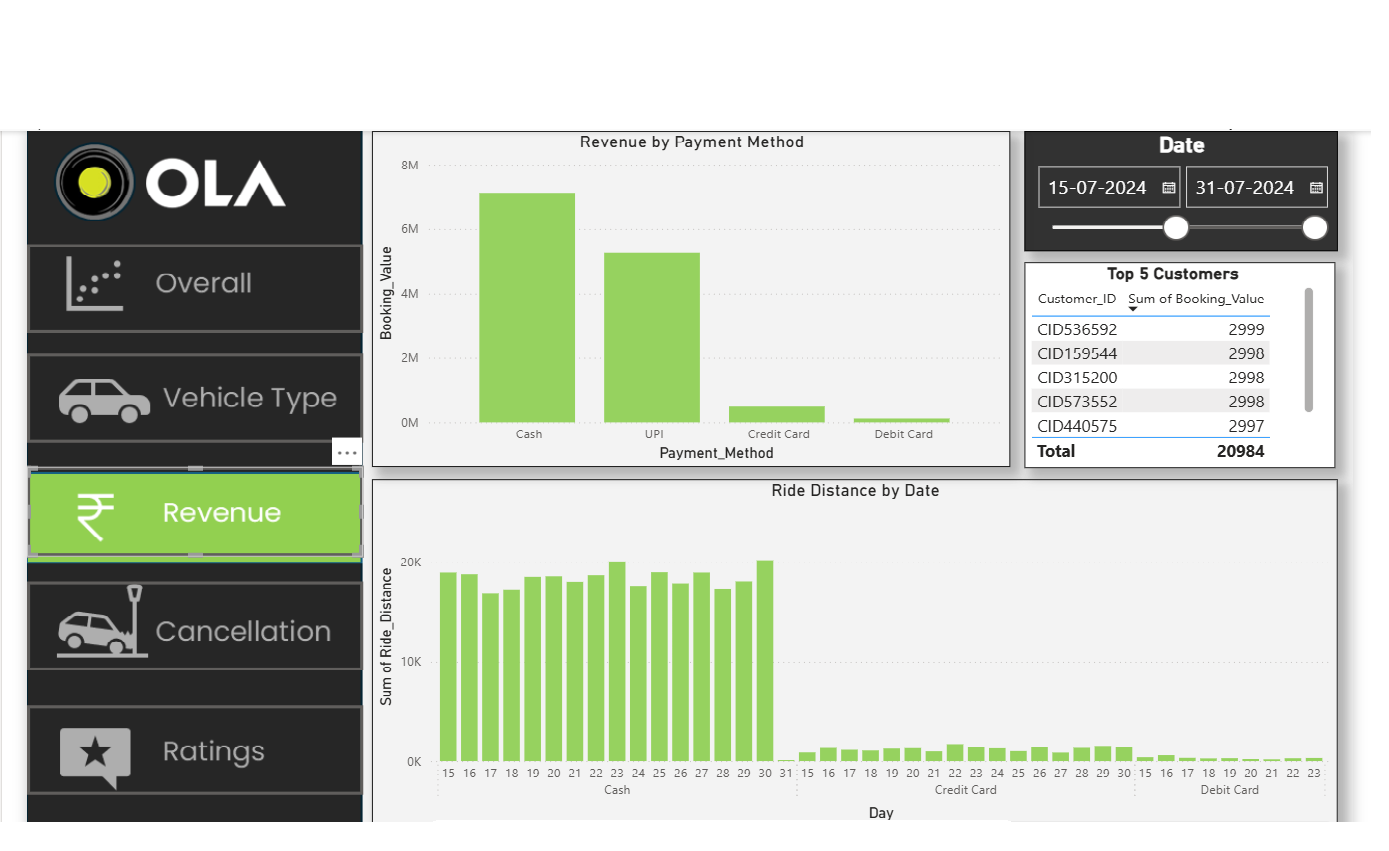

The dashboard page shown, as its layout file describes it:
{"tool":"powerbi","page":{"name":"Revenue","canvas":[1280,720],"ordinal":2},"visuals":[{"type":"actionButton","box":[0,223.2,324.5,89.3],"z":0},{"type":"actionButton","box":[0,336.6,324.5,89.3],"z":1000},{"type":"actionButton","box":[0,451.2,324.5,89.3],"z":2000},{"type":"actionButton","box":[0,575.5,324.5,89.3],"z":3000},{"type":"actionButton","box":[0,113.4,324.5,89.3],"z":4000},{"type":"columnChart","title":"Revenue by Payment Method","fields":{"Category":["July.Payment_Method"],"Y":["Sum(July.Booking_Value)"]},"box":[333.3,0,616,337],"z":5000},{"type":"columnChart","title":"Ride Distance by Date","fields":{"Category":["July.Payment_Method","July.Date.Variation.Date Hierarchy.Day"],"Y":["Sum(July.Ride_Distance)"]},"box":[333.3,348.1,932.1,356.8],"z":6000},{"type":"slicer","title":"Date","fields":{"Values":["July.Date"]},"box":[963,0,302.5,121],"z":7000},{"type":"tableEx","title":"Top 5 Customers","fields":{"Values":["July.Customer_ID","Sum(July.Booking_Value)"]},"box":[963,132.1,300,206],"z":8000}]}

Visuals, with their boxes on the page's 1280x720 design canvas (x1, y1, x2, y2). These are canvas units, not pixel positions in the 1389x851 screenshot, which may show the page scaled, cropped or inside an application window:
actionButton: [x1=0, y1=223, x2=324, y2=312]
actionButton: [x1=0, y1=337, x2=324, y2=426]
actionButton: [x1=0, y1=451, x2=324, y2=540]
actionButton: [x1=0, y1=576, x2=324, y2=665]
actionButton: [x1=0, y1=113, x2=324, y2=203]
"Revenue by Payment Method" columnChart: [x1=333, y1=0, x2=949, y2=337]
"Ride Distance by Date" columnChart: [x1=333, y1=348, x2=1265, y2=705]
"Date" slicer: [x1=963, y1=0, x2=1266, y2=121]
"Top 5 Customers" tableEx: [x1=963, y1=132, x2=1263, y2=338]
